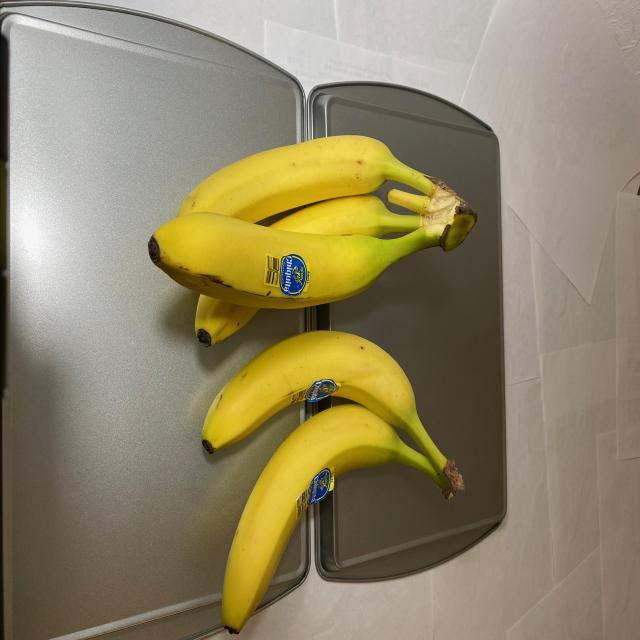banana: (195, 325, 485, 638), (133, 130, 478, 350)
